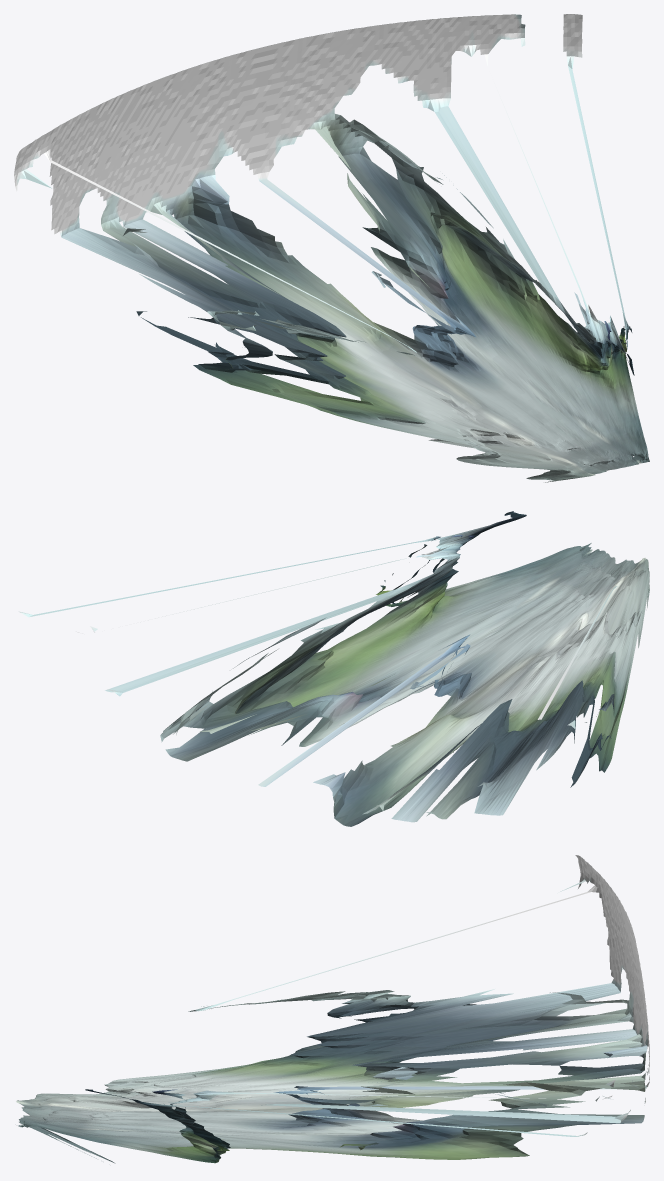
The picture shows the model from 3 angles, top to bottom: view 1: azimuth 30°, elevation 25°; view 2: azimuth 150°, elevation 25°; view 3: azimuth 270°, elevation 25°; orthographic projection. The views are drawn at different scales.
Visible parts, largest first — view 1: defaultobject; view 2: defaultobject; view 3: defaultobject.
Part boxes in pixels (x1=…): defaultobject: x1=14, y1=14, x2=649, y2=482; defaultobject: x1=18, y1=511, x2=649, y2=826; defaultobject: x1=16, y1=855, x2=649, y2=1163.
Bounding box in the file's own units: 40.8 × 13.7 × 44.77.
1 material, 1 textured.
